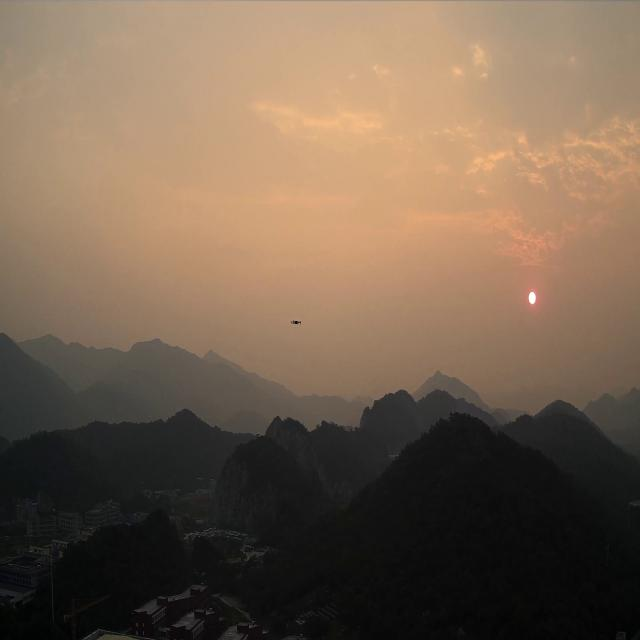UAV: (290, 319, 302, 325)
